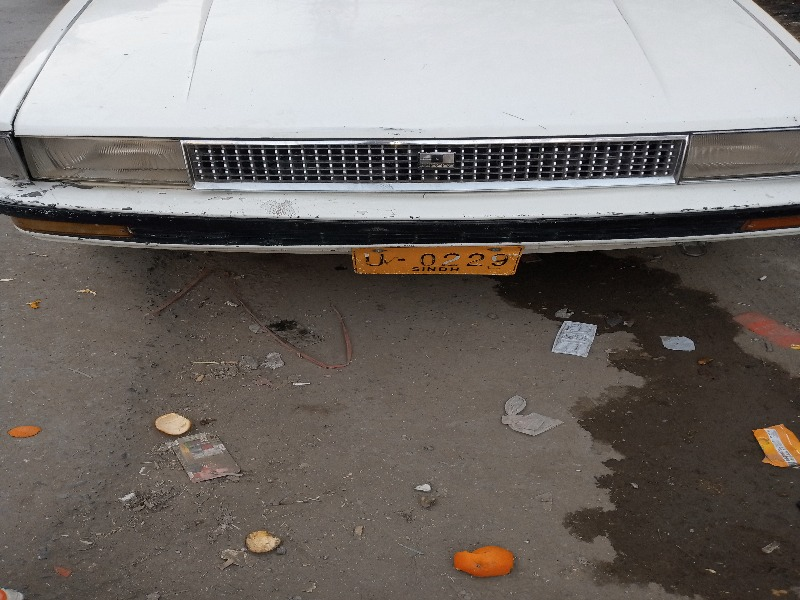License Plate: (345, 240, 527, 280)
